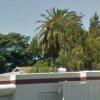Palm tree: (27, 3, 78, 63)
